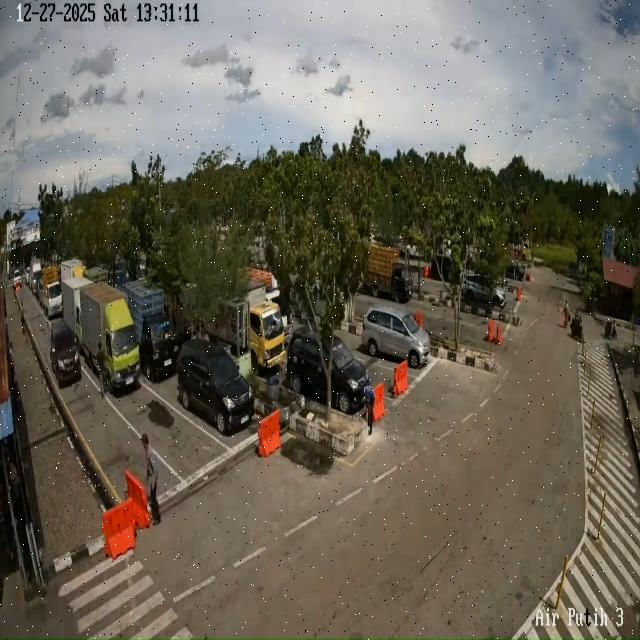Golongan IVA: (177, 338, 255, 435), (286, 326, 369, 414), (362, 306, 430, 368), (49, 318, 82, 386), (463, 274, 506, 308)
Golongan IVB: (121, 281, 179, 382), (362, 244, 413, 302), (42, 266, 62, 318)
Golongan VB: (80, 282, 140, 392), (62, 276, 92, 344)
